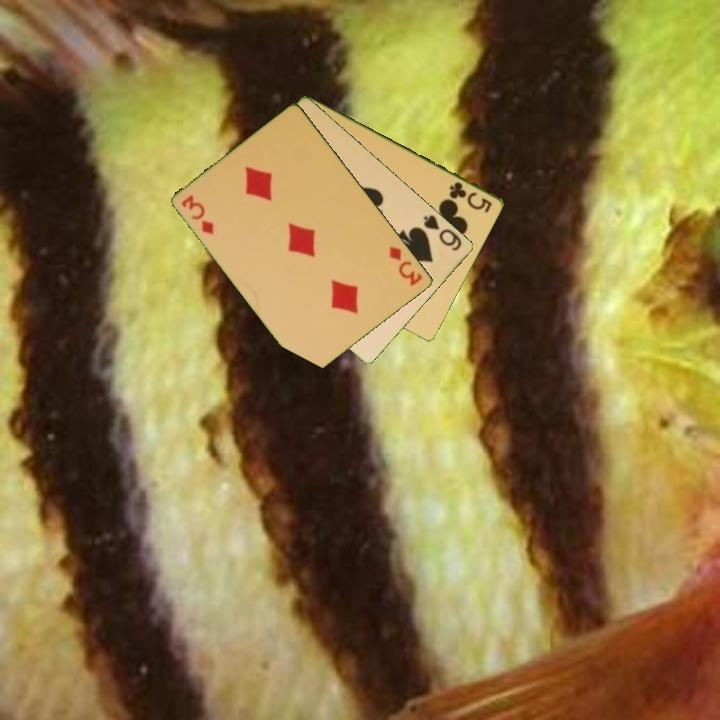3d: (386, 242, 426, 289), (178, 191, 217, 238)
5c: (446, 178, 495, 216)
6s: (420, 211, 465, 254)
